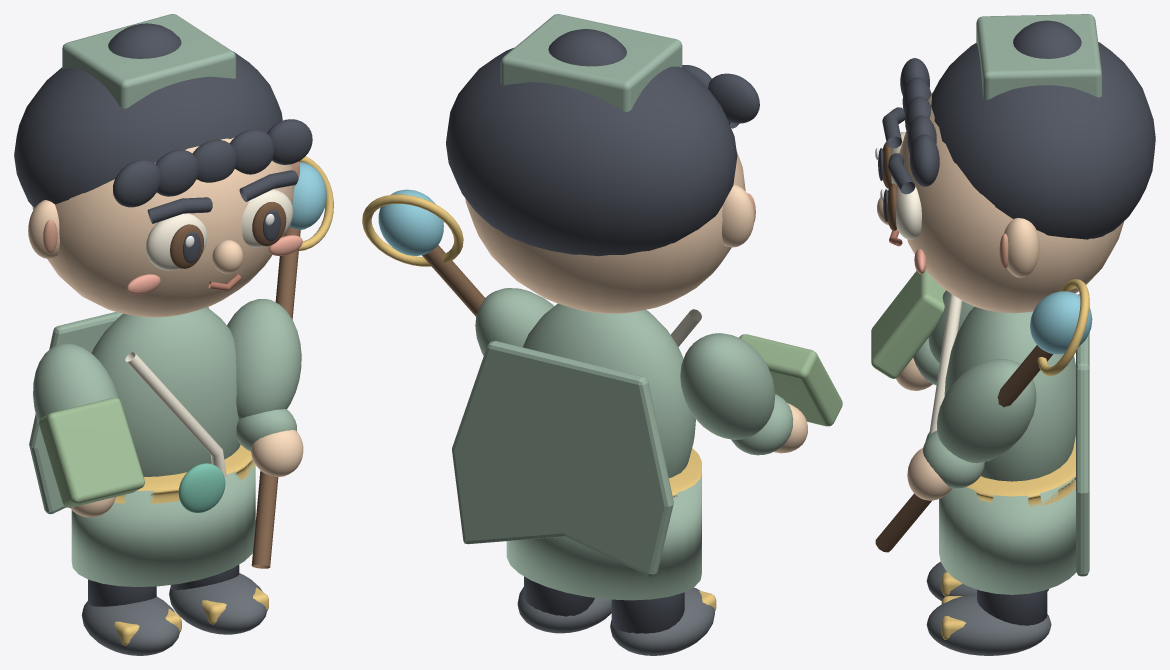
Rendered from ganfuren.fbx.
The picture shows the model from 3 angles, left to right: view 1: azimuth 30°, elevation 25°; view 2: azimuth 150°, elevation 25°; view 3: azimuth 270°, elevation 25°; orthographic projection. The views are drawn at different scales.
Visible parts, largest first — view 1: hair_mass, face, body, robe_skirt, medicine_book, scholar_crown, sleeve, sleeve.001, boot, boot.001, spell_staff, cape (+28 smaller); view 2: hair_mass, cape, face, body, robe_skirt, scholar_crown, sleeve.001, medicine_book, sleeve, boot, spell_gem, leg (+10 smaller); view 3: hair_mass, face, robe_skirt, body, scholar_crown, sleeve, medicine_book, boot.001, cape, spell_gem, spell_staff, belt (+20 smaller).
Boxes of the visible parts, box(x1,y1,x2,y2) form: hair_mass: box(14, 51, 282, 207); face: box(32, 137, 294, 317); body: box(91, 307, 240, 476); robe_skirt: box(71, 459, 255, 586); medicine_book: box(39, 398, 144, 507); scholar_crown: box(62, 14, 236, 108); sleeve: box(227, 299, 301, 419); sleeve.001: box(33, 343, 118, 423); boot: box(81, 596, 179, 655); boot.001: box(169, 573, 266, 634); spell_staff: box(251, 227, 300, 568); cape: box(29, 307, 208, 514); hair_mass: box(446, 48, 737, 256); cape: box(452, 341, 673, 576); face: box(465, 151, 745, 313); body: box(523, 303, 695, 477); robe_skirt: box(506, 472, 701, 600); scholar_crown: box(500, 14, 682, 111); sleeve.001: box(680, 333, 775, 439); medicine_book: box(739, 334, 842, 426); sleeve: box(475, 288, 553, 355); boot: box(610, 587, 714, 655); spell_gem: box(378, 189, 443, 255); leg: box(611, 592, 684, 633); hair_mass: box(931, 42, 1155, 239); face: box(896, 92, 1124, 313); robe_skirt: box(939, 477, 1076, 594); body: box(944, 306, 1075, 481); scholar_crown: box(976, 14, 1102, 99); sleeve: box(937, 358, 1036, 463); medicine_book: box(871, 270, 945, 378); boot.001: box(926, 594, 1051, 655); cape: box(1076, 294, 1089, 576); spell_gem: box(1030, 291, 1092, 354); spell_staff: box(875, 345, 1053, 552); belt: box(957, 436, 1075, 507).
Bounding box in the file's own units: 1.55 × 2.44 × 1.05.
